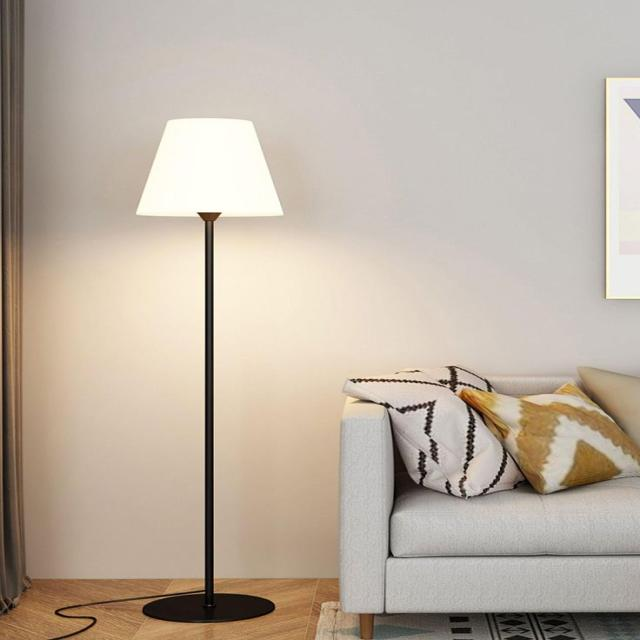obstacle: (338, 366, 639, 638)
